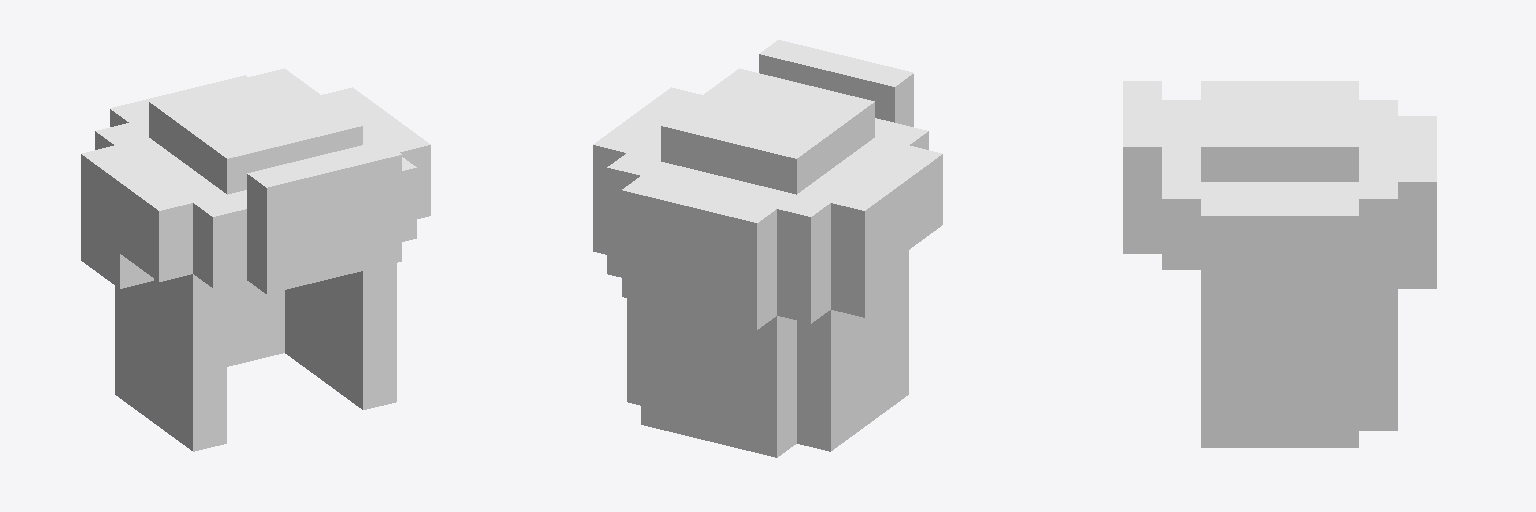
File: char-174-helm_lgt_3d_sh.obj
3 renders of one model, left to right at view 1: azimuth 30°, elevation 25°; view 2: azimuth 150°, elevation 25°; view 3: azimuth 270°, elevation 25°, orthographic.
Visible parts, largest first — view 1: helm_lgt_3d_sh; view 2: helm_lgt_3d_sh; view 3: helm_lgt_3d_sh.
Boxes of the visible parts, x1,y1,x2,y2 form: helm_lgt_3d_sh: [81, 68, 430, 451]; helm_lgt_3d_sh: [593, 40, 942, 457]; helm_lgt_3d_sh: [1123, 81, 1436, 447].
Bounding box in the file's own units: 0.8 × 0.8 × 0.8.